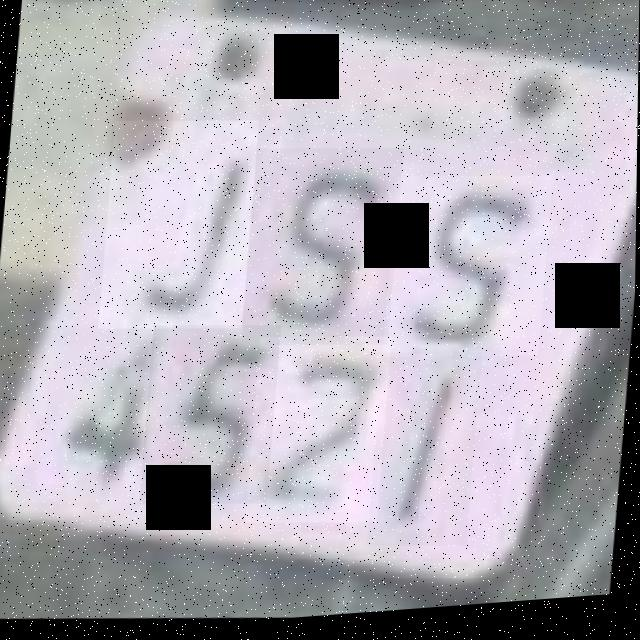1: (368, 353, 484, 558)
2: (246, 333, 393, 535)
4: (36, 299, 176, 511)
5: (140, 320, 282, 516)
J: (98, 114, 259, 340)
S: (242, 144, 404, 359), (383, 173, 553, 373)
